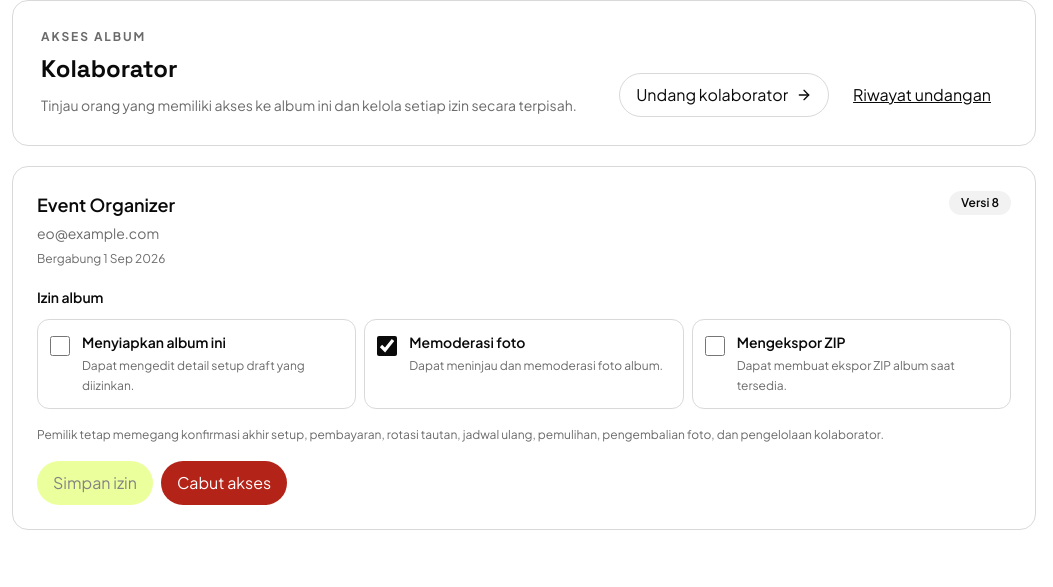
Test case: FE-7 collaborator management › updates one independent capability with the current permission version
This screenshot has width=1053, height=587.
Click the checkbox labelled "Mengekspor ZIP Dapat membuat ekspor ZIP album saat tersedia.".
click(715, 346)  # box [705,336,725,356]
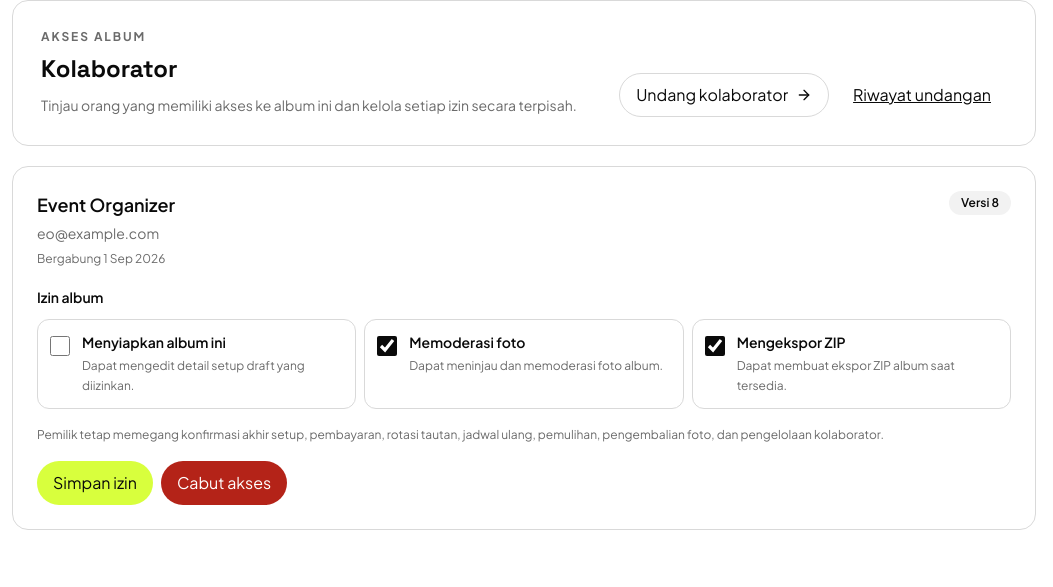
Click the button "Simpan izin".
click(95, 483)  # box [37,461,153,505]
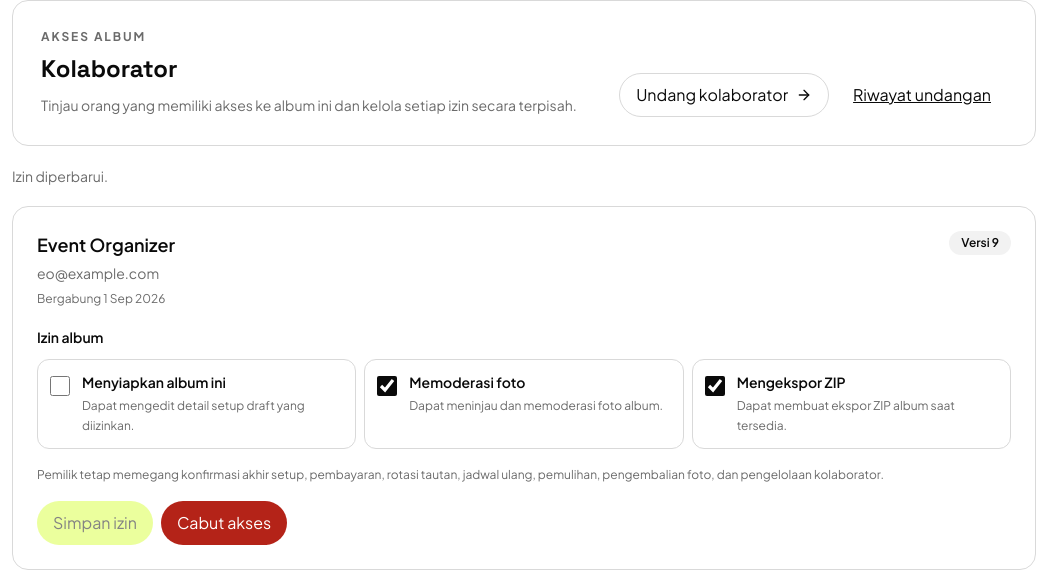
Expected: the text "Versi 9" is shown, [949,231,1011,255]
